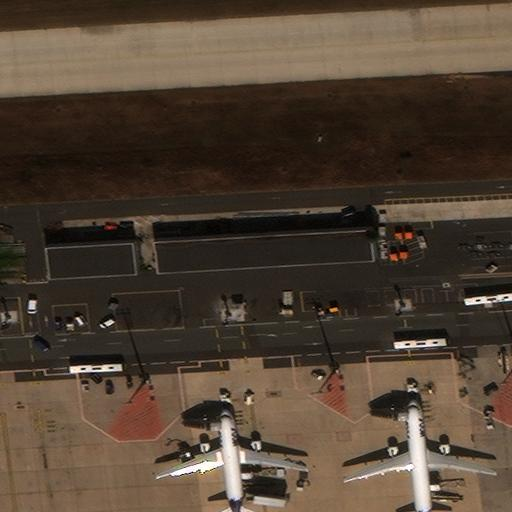Medium Civil Transport: (343, 399, 495, 511), (154, 409, 306, 511)
